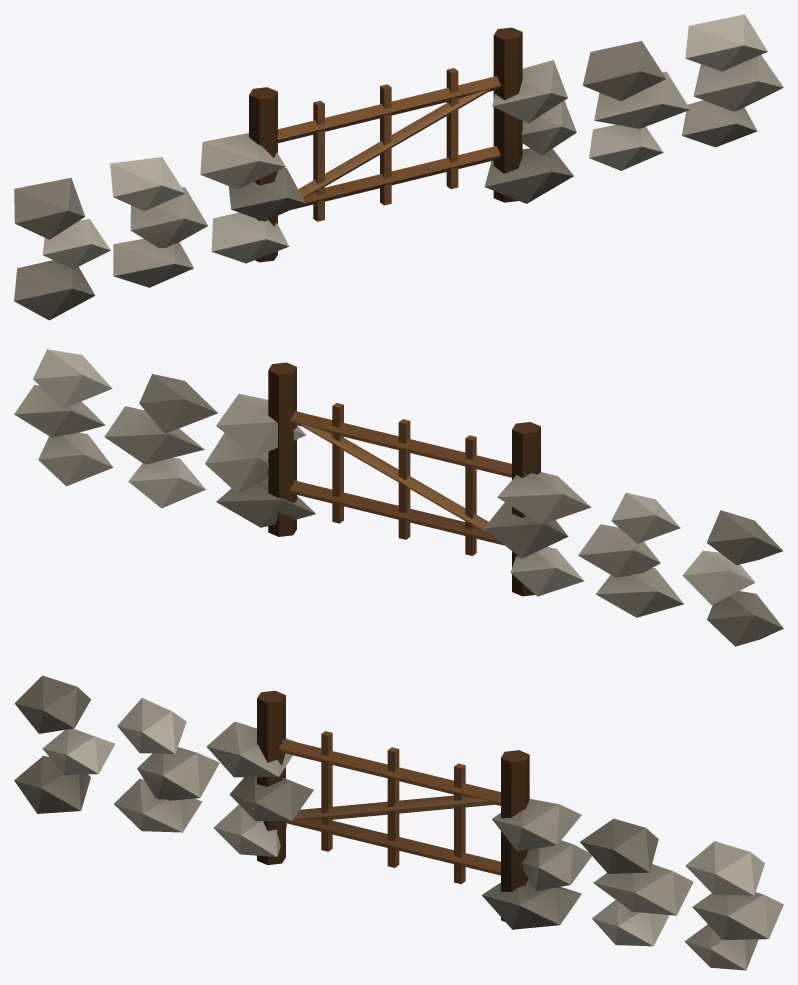
The model's file is pengate.glb.
3 renders of one model, top to bottom at view 1: azimuth 30°, elevation 25°; view 2: azimuth 150°, elevation 25°; view 3: azimuth 330°, elevation 25°, orthographic.
Visible parts, largest first — view 1: base, door_m; view 2: base, door_m; view 3: base, door_m.
Part boxes in pixels (bbox=[...]): base: bbox=[14, 14, 783, 320]; door_m: bbox=[277, 68, 500, 221]; base: bbox=[14, 349, 783, 646]; door_m: bbox=[290, 403, 511, 555]; base: bbox=[14, 675, 783, 970]; door_m: bbox=[279, 731, 500, 884].
Bounding box in the file's own units: 2.06 × 0.4249 × 0.1837.
